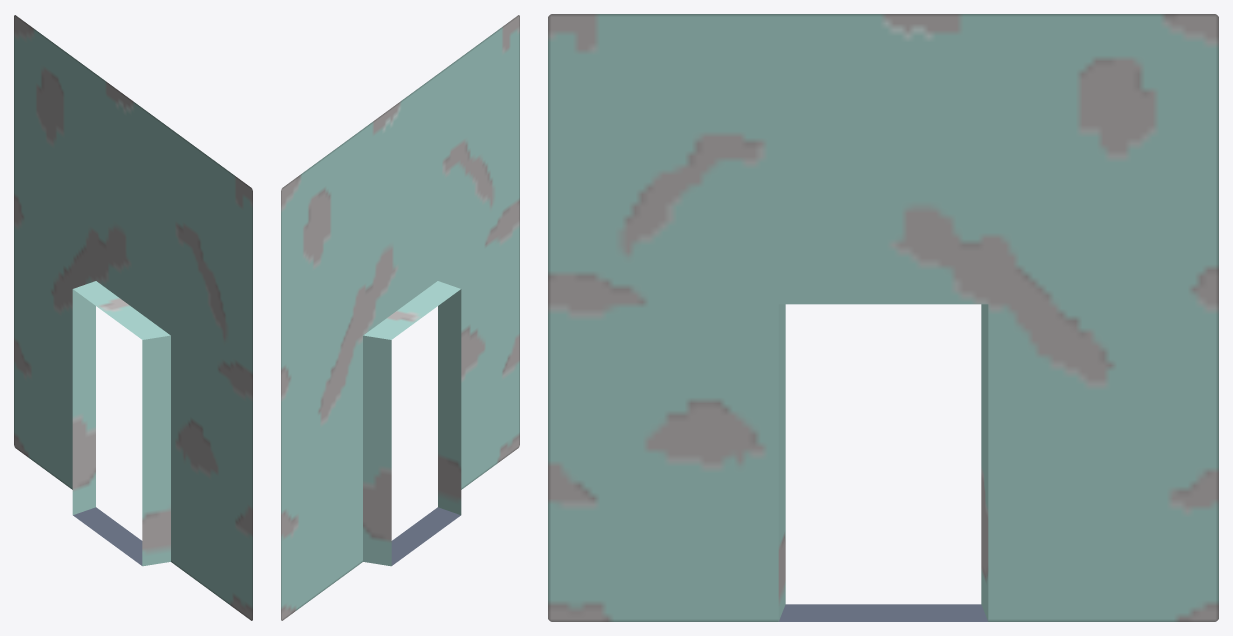
The model's file is ParedPuertaAzul1.fbx.
3 renders of one model, left to right at view 1: azimuth 30°, elevation 25°; view 2: azimuth 150°, elevation 25°; view 3: azimuth 270°, elevation 25°, orthographic. The views are drawn at different scales.
Visible parts, largest first — view 1: Pared + Puerta 1; view 2: Pared + Puerta 1; view 3: Pared + Puerta 1.
Part boxes in pixels (x1,y1,x2,y2): Pared + Puerta 1: (14,15,252,620); Pared + Puerta 1: (281,15,519,620); Pared + Puerta 1: (548,14,1218,621).
Size of the model in its own units: 18.75 by 300 by 300.
Materials: 1 (1 with a texture image).
